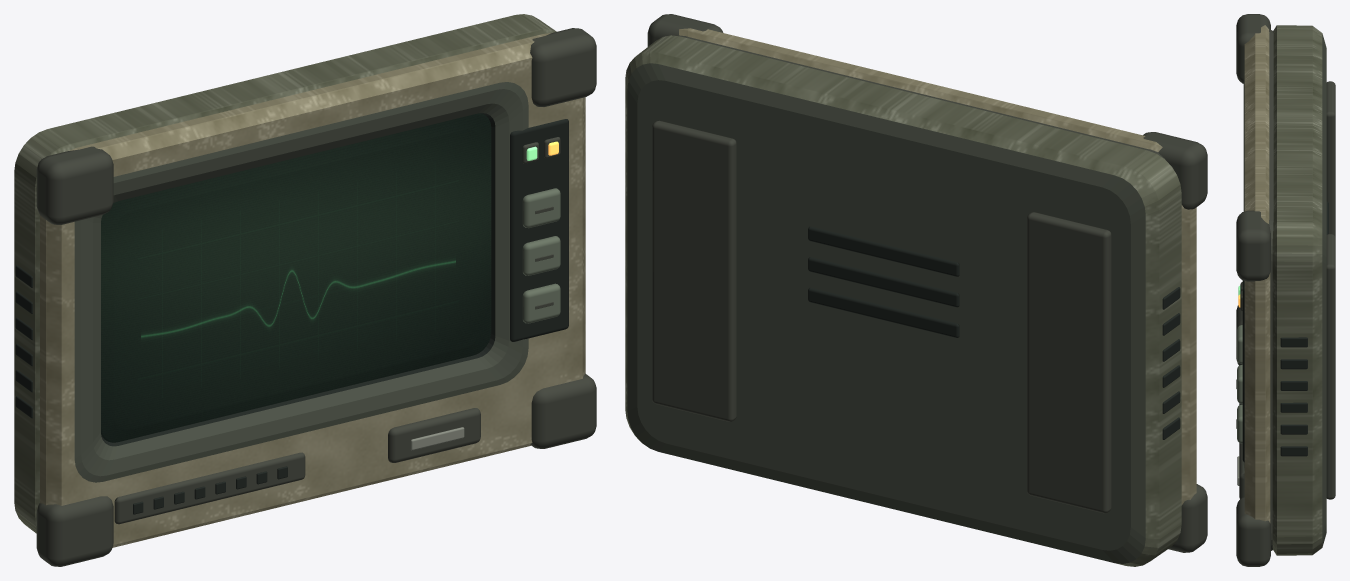
Rendered from training_terminal.glb.
3 views of the same model, side by side, from view 1: azimuth 30°, elevation 25°; view 2: azimuth 150°, elevation 25°; view 3: azimuth 270°, elevation 25° (orthographic). The views are drawn at different scales.
Visible parts, largest first — view 1: Inset convex glass, Recessed face casting, Molded black rubber, Cast rear housing, Recessed charcoal polymer, Olive gray membrane keys; view 2: Cast rear housing, Molded black rubber, Recessed face casting, Recessed charcoal polymer; view 3: Cast rear housing, Molded black rubber, Recessed face casting, Recessed charcoal polymer, Olive gray membrane keys.
Part boxes in pixels (x1,y1,x2,y2): Inset convex glass: [101, 113, 491, 442]; Recessed face casting: [40, 33, 585, 547]; Molded black rubber: [36, 28, 596, 566]; Cast rear housing: [14, 14, 556, 533]; Recessed charcoal polymer: [15, 119, 568, 514]; Olive gray membrane keys: [522, 188, 560, 323]; Cast rear housing: [625, 35, 1181, 566]; Molded black rubber: [647, 14, 1207, 552]; Recessed face casting: [679, 28, 1196, 505]; Recessed charcoal polymer: [808, 226, 1180, 439]; Cast rear housing: [1272, 25, 1326, 555]; Molded black rubber: [1236, 14, 1335, 566]; Recessed face casting: [1243, 25, 1270, 522]; Recessed charcoal polymer: [1239, 201, 1328, 462]; Olive gray membrane keys: [1237, 325, 1242, 443].
Size of the model in its own units: 0.639 by 0.449 by 0.12.
Materials: 10 (3 with a texture image).
